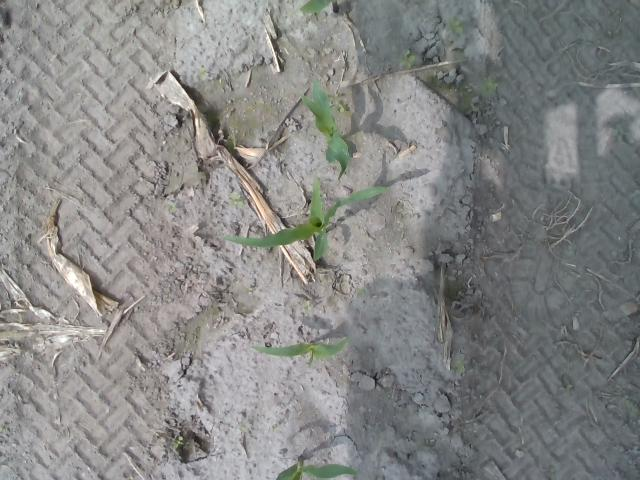Maize: (222, 176, 388, 262), (301, 77, 350, 182), (252, 335, 350, 361), (274, 454, 360, 480), (300, 0, 334, 15)
Weeds: (398, 48, 416, 70), (451, 356, 467, 376), (448, 18, 464, 35), (232, 192, 244, 208), (482, 81, 497, 92), (174, 434, 183, 448), (333, 102, 345, 112), (168, 202, 177, 214)
